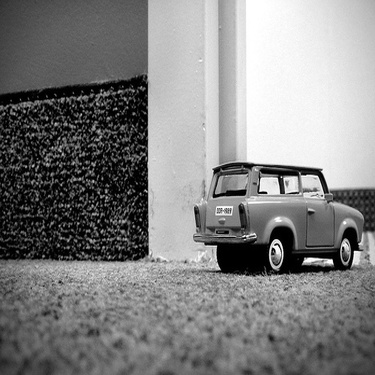car: (158, 146, 373, 278)
